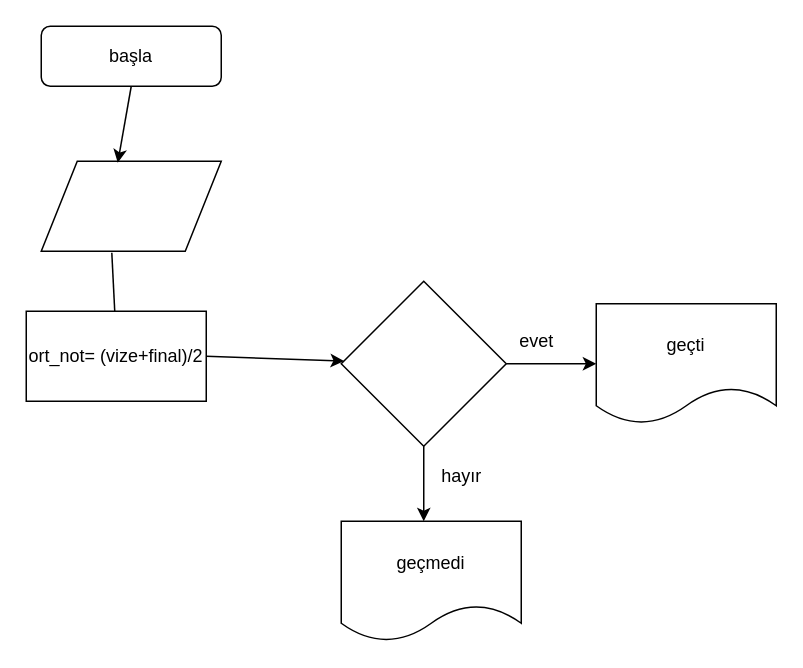
The diagram is 803 pixels wide and 668 high, and some of its shapes have lost their labels. Here are the shapes that lost their labels. From the top down, the box of each, then its label:
(40, 160, 221, 251): vize,final
(340, 280, 506, 446): ort_not<50
